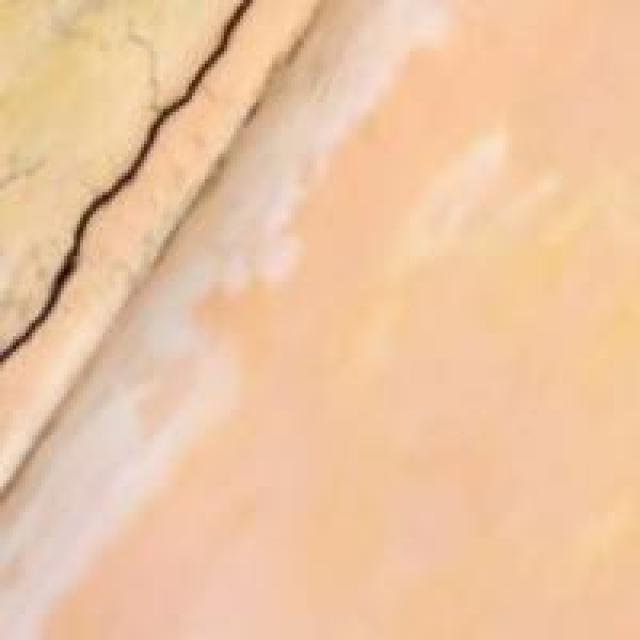Crack: (2, 0, 280, 394)
